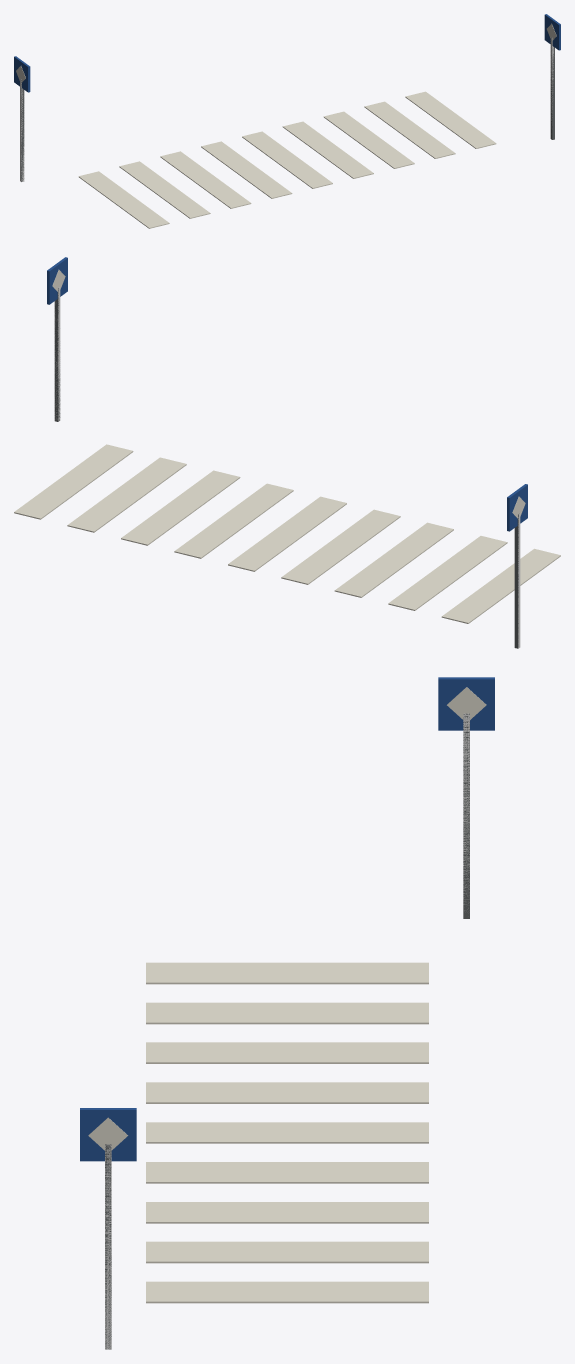
Rendered from zebra.glb.
3 views of the same model, one above another, from view 1: azimuth 30°, elevation 25°; view 2: azimuth 150°, elevation 25°; view 3: azimuth 270°, elevation 25° (orthographic). The views are drawn at different scales.
Visible parts, largest first — view 1: 00_#e4e0d2_noshadow, 02_#2c5a9a_noshadow_r110, 01_#6a6e70_r320, solid; view 2: 00_#e4e0d2_noshadow, 01_#6a6e70_r320, 02_#2c5a9a_noshadow_r110, solid.001; view 3: 00_#e4e0d2_noshadow, 02_#2c5a9a_noshadow_r110, 01_#6a6e70_r320, 03_#e8e4d8_noshadow_r110, solid.001, solid.
Part boxes in pixels (x1,y1,x2,y2): 00_#e4e0d2_noshadow: (78, 91, 496, 228); 02_#2c5a9a_noshadow_r110: (14, 14, 560, 92); 01_#6a6e70_r320: (20, 37, 554, 181); solid: (20, 79, 24, 181); 00_#e4e0d2_noshadow: (14, 444, 560, 623); 01_#6a6e70_r320: (54, 288, 519, 648); 02_#2c5a9a_noshadow_r110: (47, 257, 527, 531); solid.001: (54, 286, 60, 421); 00_#e4e0d2_noshadow: (146, 962, 428, 1303); 02_#2c5a9a_noshadow_r110: (80, 677, 494, 1161); 01_#6a6e70_r320: (105, 713, 469, 1349); 03_#e8e4d8_noshadow_r110: (88, 687, 486, 1150); solid.001: (105, 1144, 111, 1349); solid: (463, 713, 469, 910).
Size of the model in its own units: 10.87 by 2.81 by 4.4.
